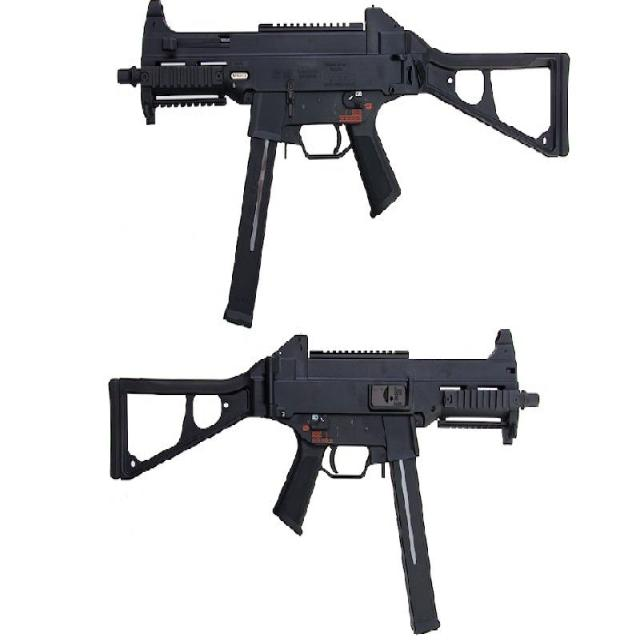Gun: (107, 0, 573, 329), (104, 343, 550, 640)
